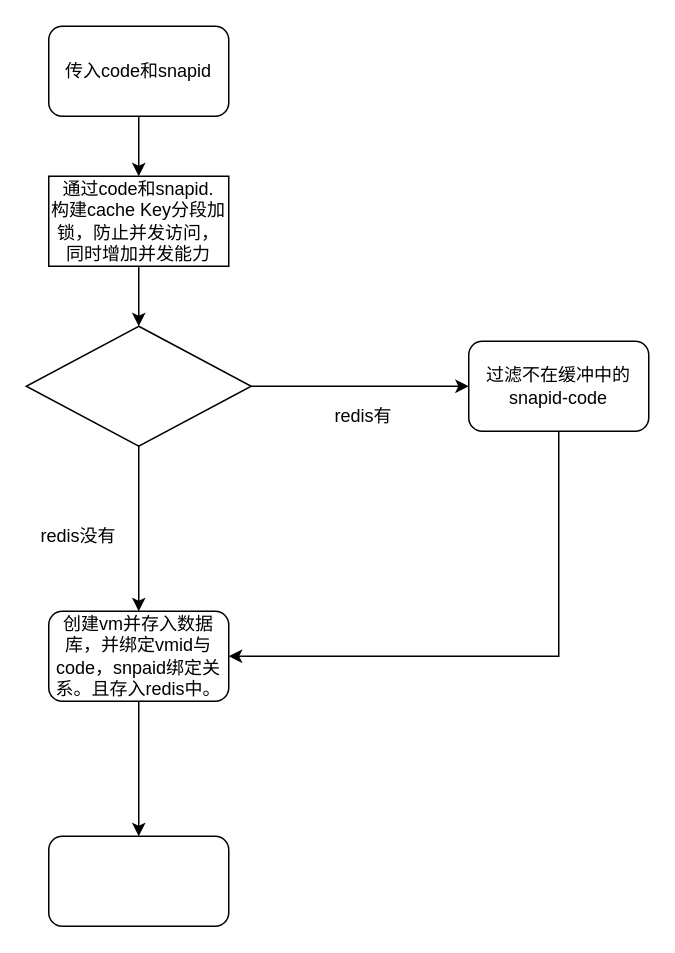
Some shapes in this 675 by 953 pixel diagram are drawn without their labels. The centre of each missing label's shape, as x and y in pixels:
通过code和snapid. 构建cache Key，从redis读取数据: the point at 138,385
释放锁，返回数据: the point at 138,880
